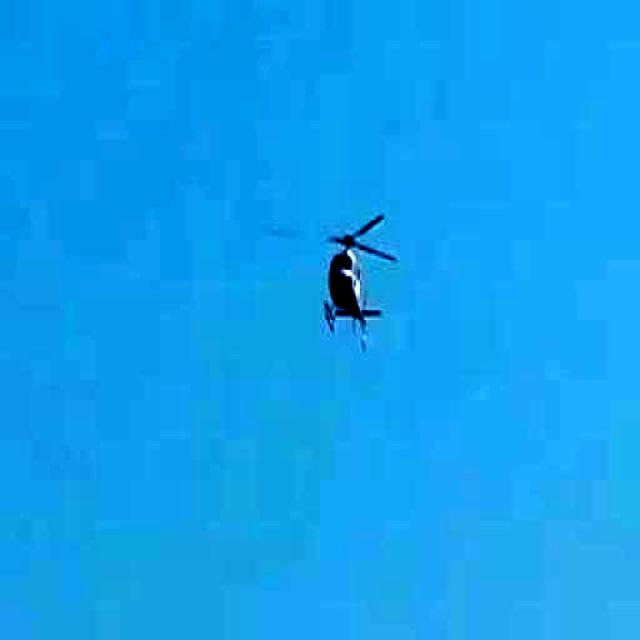drone: (269, 195, 425, 371)
